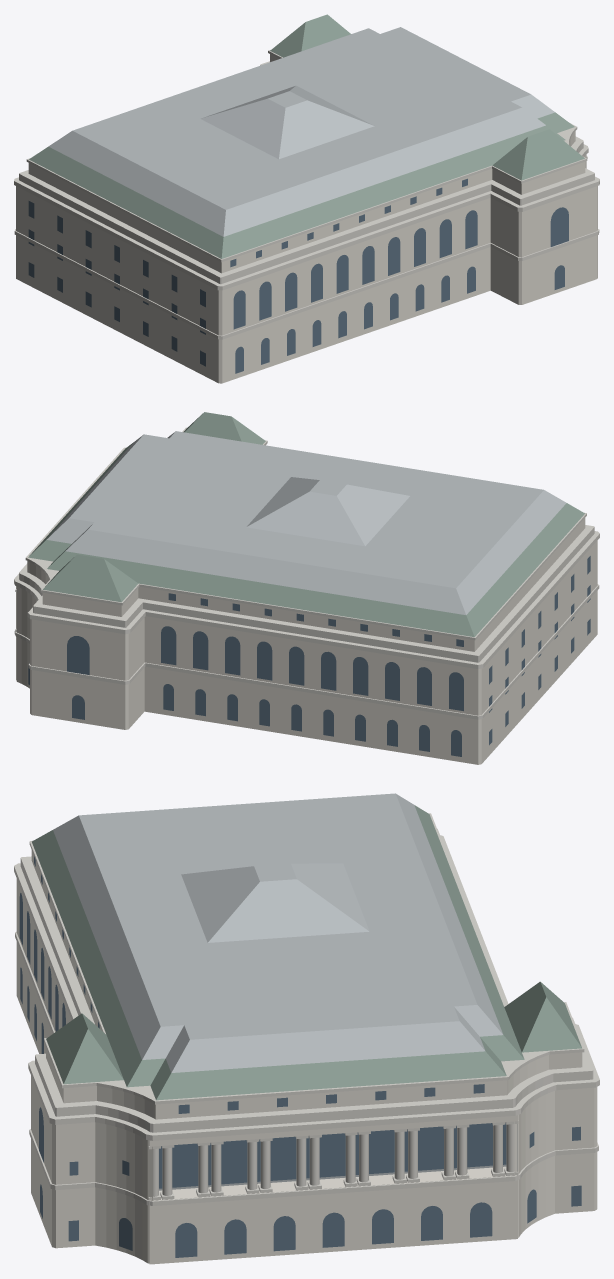
Rendered from detail.glb.
The picture shows the model from 3 angles, top to bottom: view 1: azimuth 30°, elevation 25°; view 2: azimuth 150°, elevation 25°; view 3: azimuth 270°, elevation 25°; orthographic projection. The views are drawn at different scales.
Visible parts, largest first — view 1: war-memorial-veterans-building; view 2: war-memorial-veterans-building; view 3: war-memorial-veterans-building.
Part boxes in pixels (left/top/right/bottom): war-memorial-veterans-building: left=14, top=14, right=599, bottom=383; war-memorial-veterans-building: left=14, top=412, right=599, bottom=764; war-memorial-veterans-building: left=14, top=793, right=599, bottom=1264.
Size of the model in its own units: 95.43 by 33.8 by 78.49.
